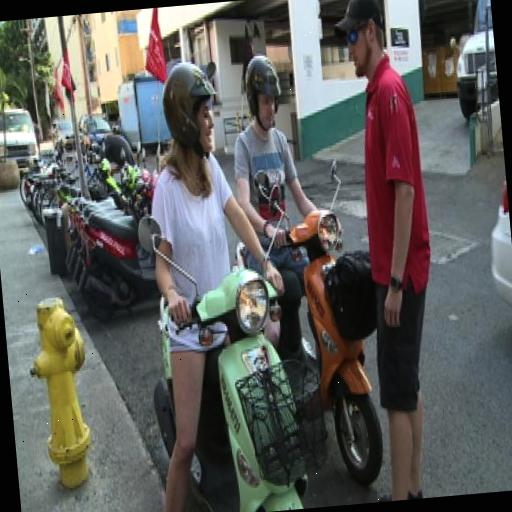helmet: (123, 28, 299, 512), (230, 26, 388, 396)
